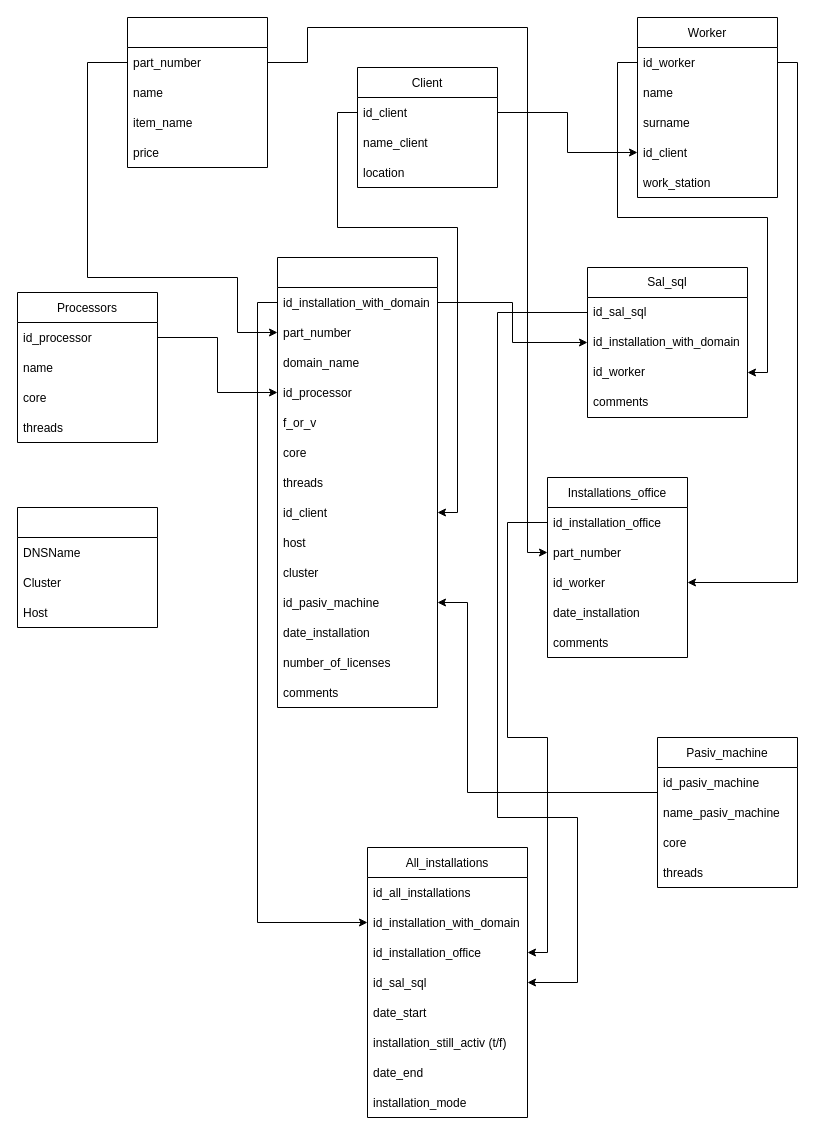
This 823x1135 diagram has some shape labels left out. Each missing label, with the box of its shape:
Aplication: (126, 16, 268, 168)
Installations_with_domain: (276, 256, 438, 708)
VMware (from file): (16, 506, 158, 628)
